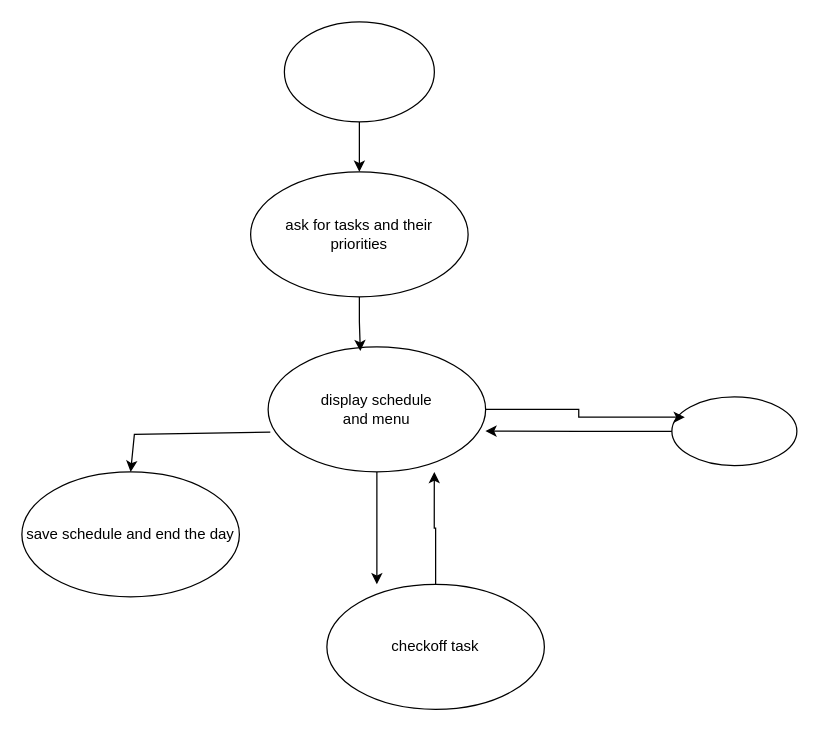
Image size: 819x731. Some labels were removed from this diagram. Each missing label, with the centre of its shape:
"add task" goes at [734,431].
"ask preferences" goes at [358,71].
